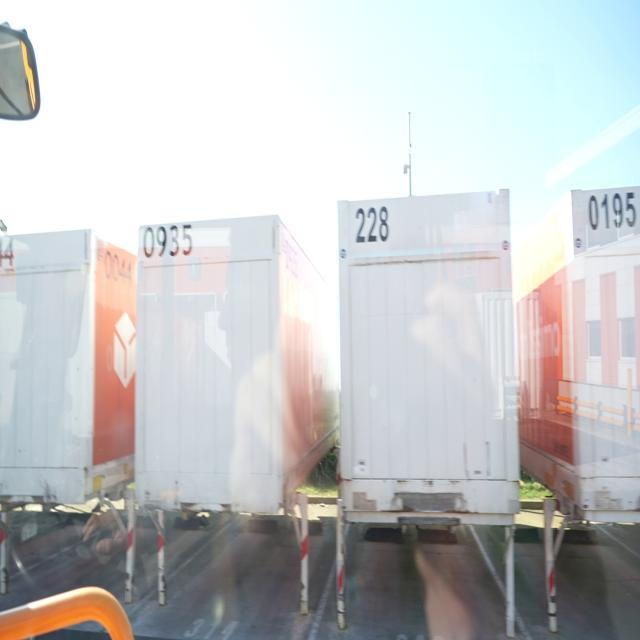Code: (585, 185, 639, 237), (142, 219, 196, 264), (350, 200, 397, 250)
